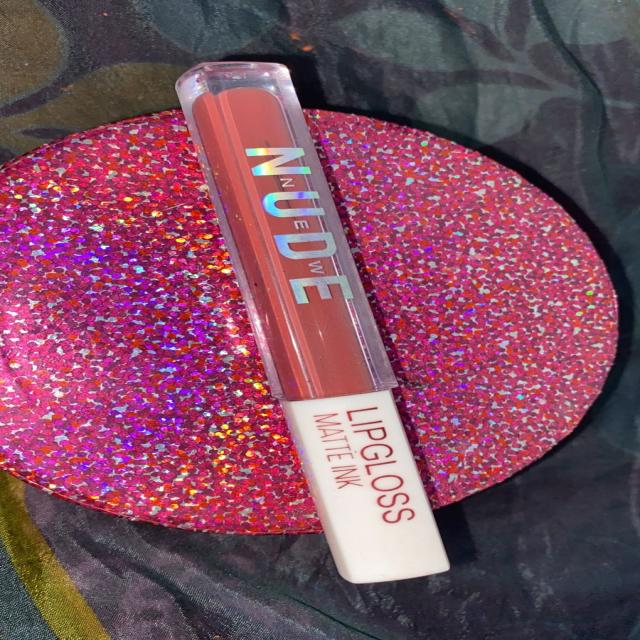lip gloss: (147, 39, 508, 602)
